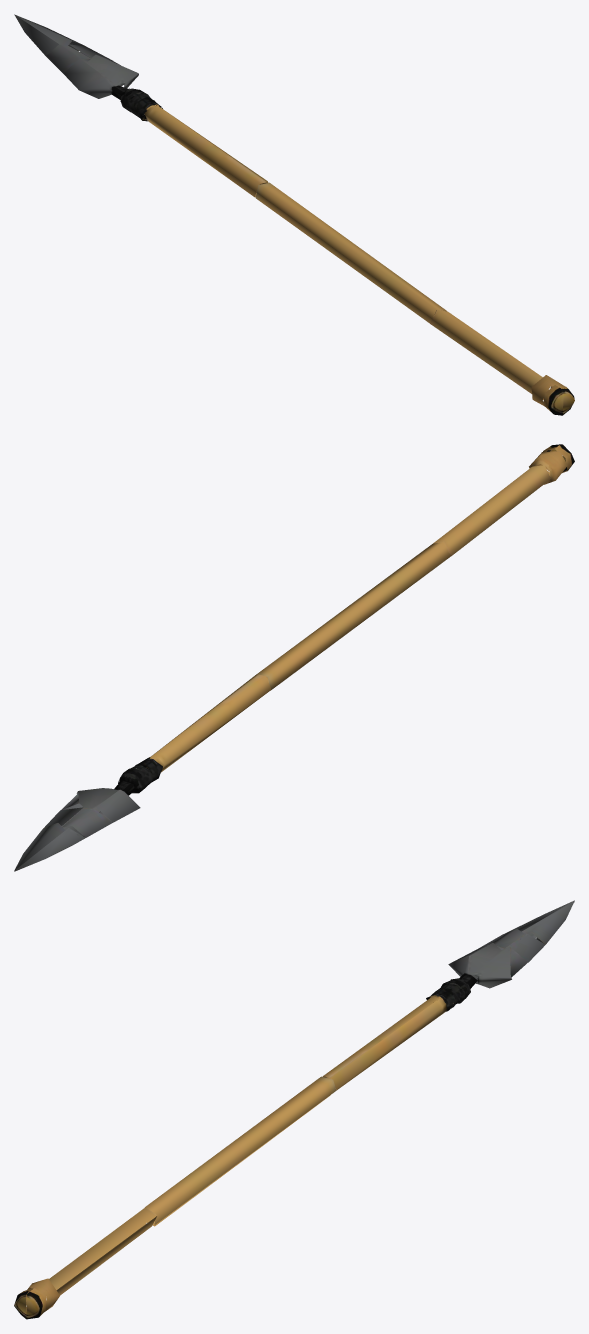
The model's file is javelin_lod1.fbx.
The picture shows the model from 3 angles, top to bottom: view 1: azimuth 30°, elevation 25°; view 2: azimuth 150°, elevation 25°; view 3: azimuth 330°, elevation 25°; orthographic projection. The views are drawn at different scales.
Visible parts, largest first — view 1: tripo_node_52f7ec99-29a7-44d2-a93b-736bee8ce724; view 2: tripo_node_52f7ec99-29a7-44d2-a93b-736bee8ce724; view 3: tripo_node_52f7ec99-29a7-44d2-a93b-736bee8ce724.
Boxes of the visible parts, x1,y1,x2,y2 form: tripo_node_52f7ec99-29a7-44d2-a93b-736bee8ce724: (14,14,574,415); tripo_node_52f7ec99-29a7-44d2-a93b-736bee8ce724: (14,444,574,871); tripo_node_52f7ec99-29a7-44d2-a93b-736bee8ce724: (14,900,574,1319).
Bounding box in the file's own units: 0.1069 × 0.054 × 1.64.
